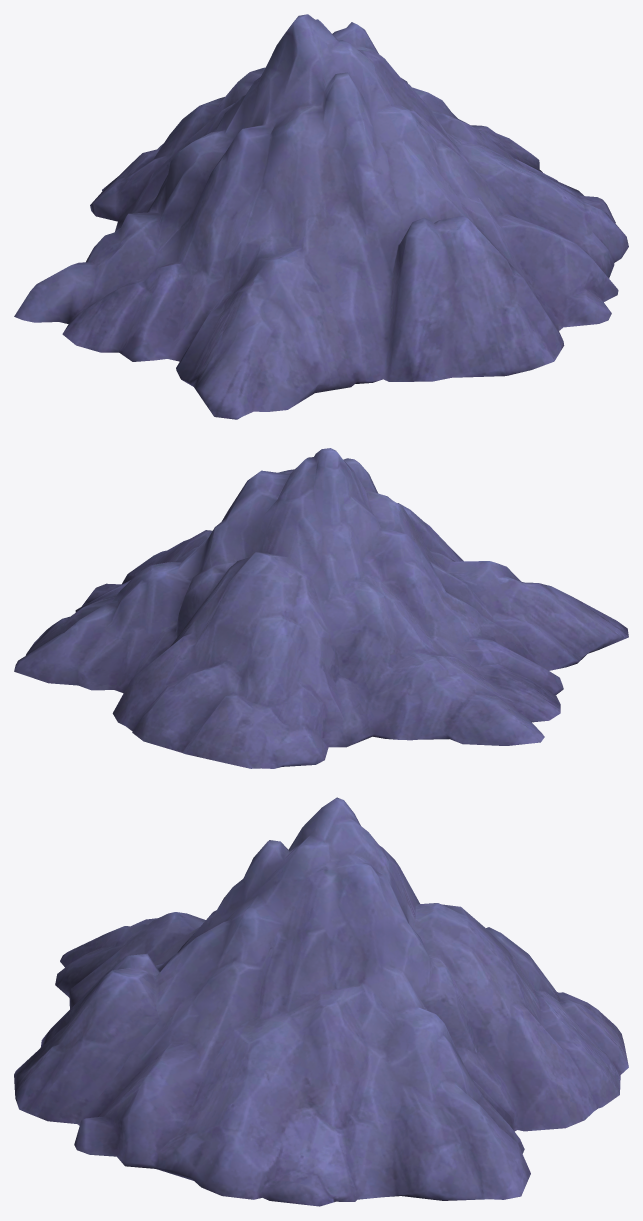
File: Story_0-8_kaipian_shanti01_fbx.fbx
3 renders of one model, top to bottom at view 1: azimuth 30°, elevation 25°; view 2: azimuth 150°, elevation 25°; view 3: azimuth 270°, elevation 25°, orthographic. The views are drawn at different scales.
Visible parts, largest first — view 1: Story_0_8_kaipian_shanti01_fbx; view 2: Story_0_8_kaipian_shanti01_fbx; view 3: Story_0_8_kaipian_shanti01_fbx.
Part boxes in pixels (x1,y1,x2,y2): Story_0_8_kaipian_shanti01_fbx: (14, 14, 628, 419); Story_0_8_kaipian_shanti01_fbx: (14, 448, 628, 768); Story_0_8_kaipian_shanti01_fbx: (14, 797, 628, 1206).
Size of the model in its own units: 3196 by 1414 by 2988.
